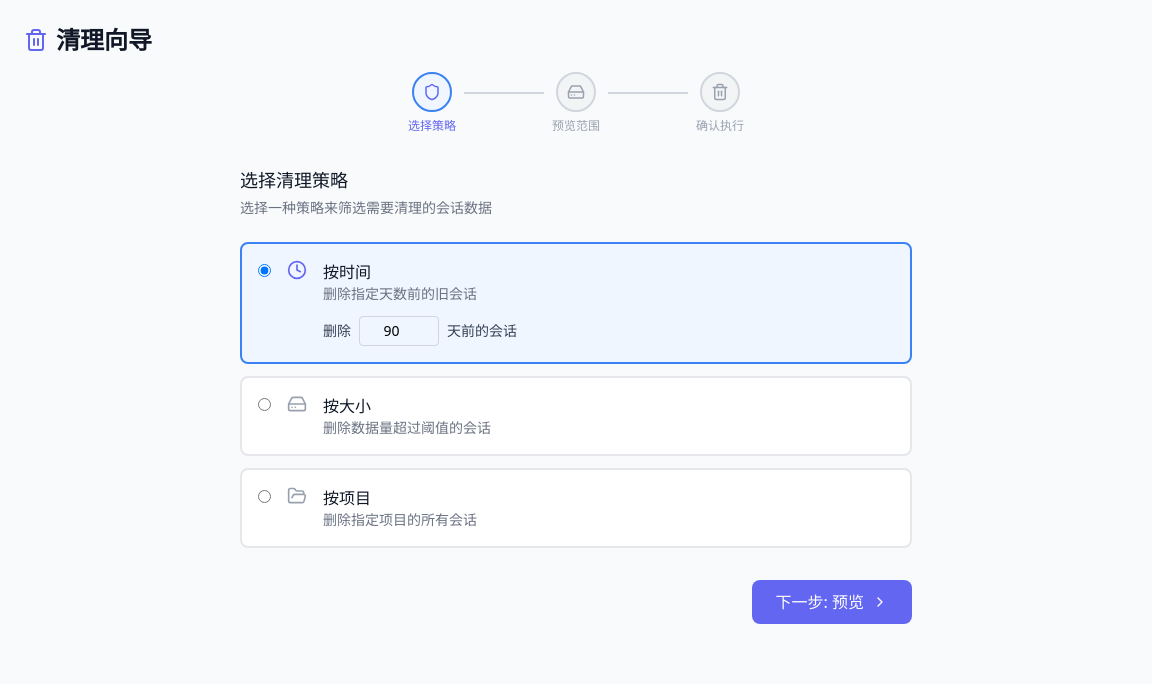
Test: Cleanup 预览的子会话锁定与父子联动（P2-2） › 子会话行：checkbox 强制勾选 + disabled + 「子会话」小标签与说明
Click the button "下一步: 预览". click: coordinates (832, 602)
box: [752,580,912,624]
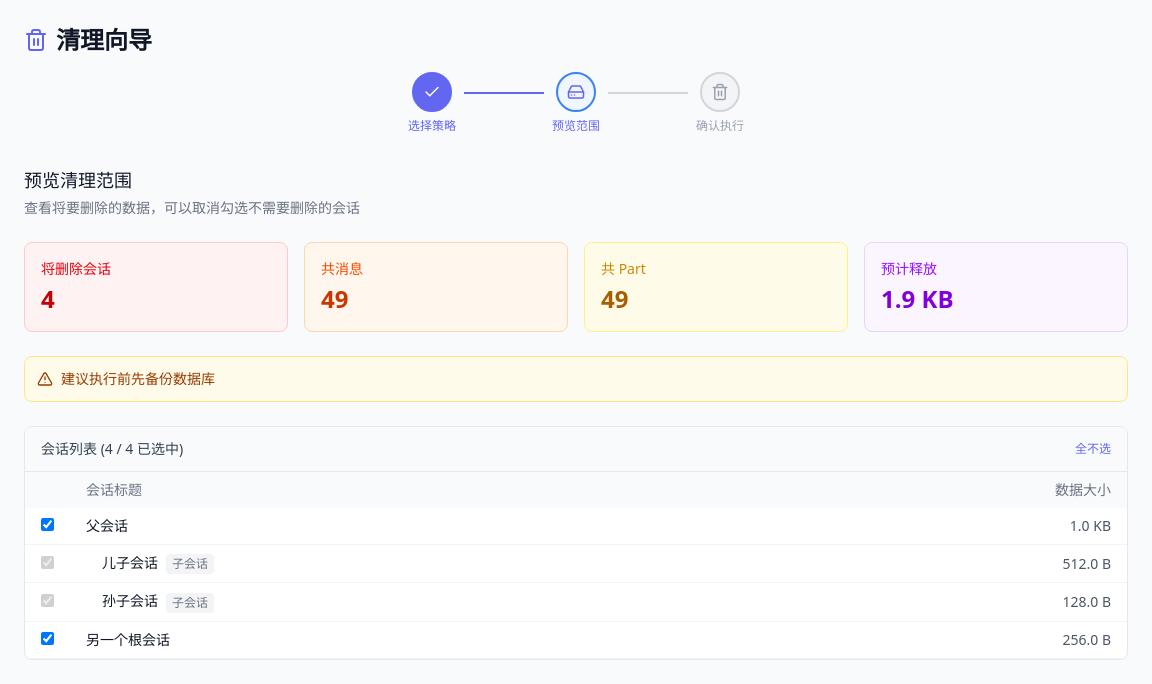
Expected: the heading "预览清理范围" is shown, [24,168,132,192]
Expected: the checkbox named "随父会话一起删除，不可单独保留" is checked, [41,556,54,569]
Expected: the checkbox named "随父会话一起删除，不可单独保留" is disabled, [41,556,54,569]
